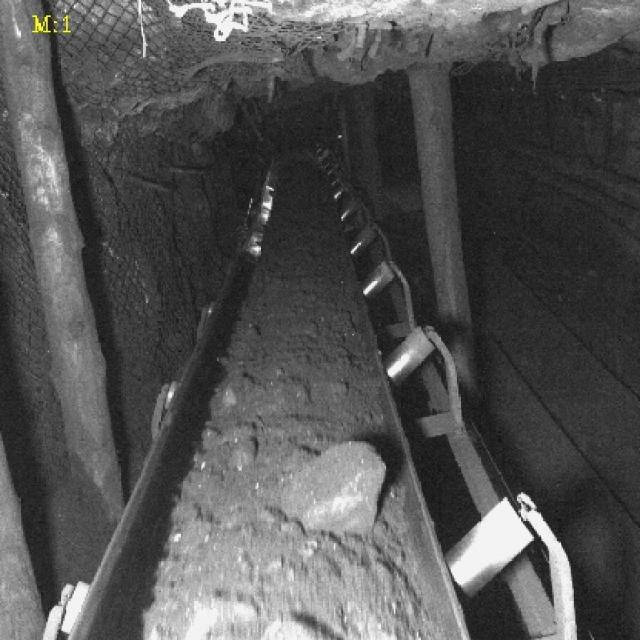large_sized_coal: (274, 441, 386, 534), (260, 618, 326, 640)
